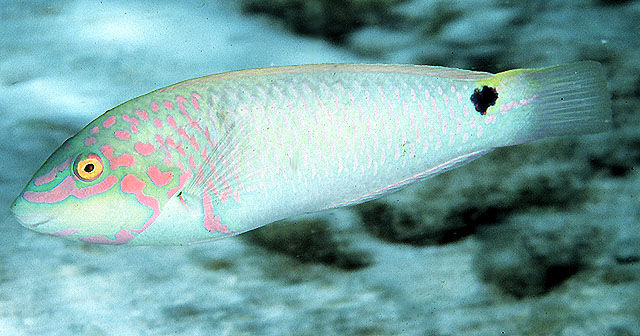fish: (10, 63, 613, 246)
